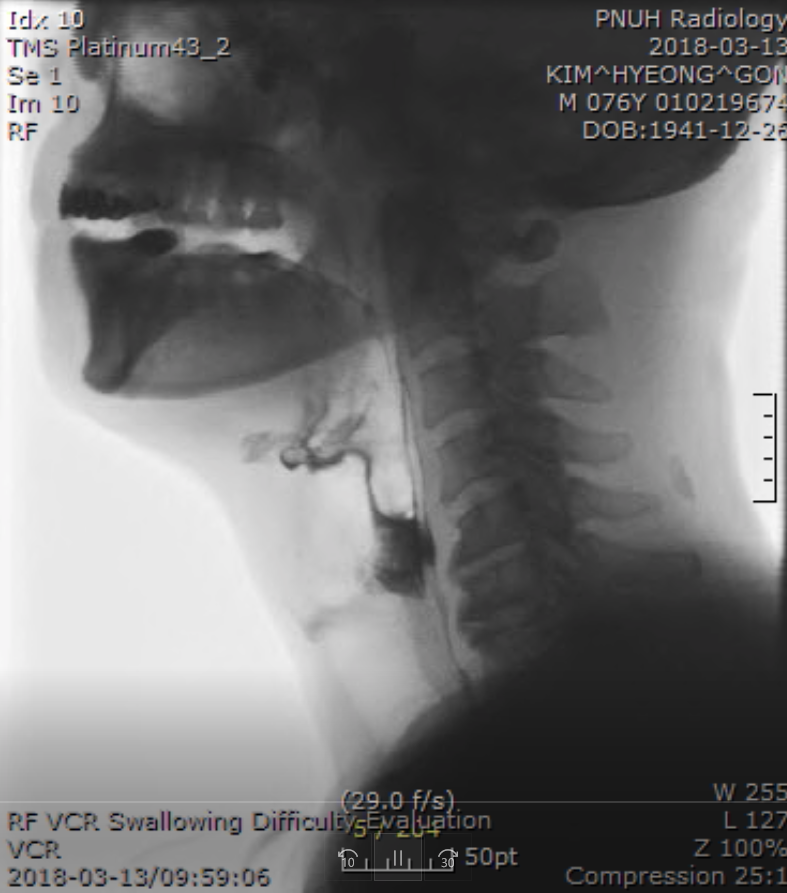dros: (358, 450, 422, 521)
food: (362, 516, 438, 601)
uros: (281, 393, 366, 470)
